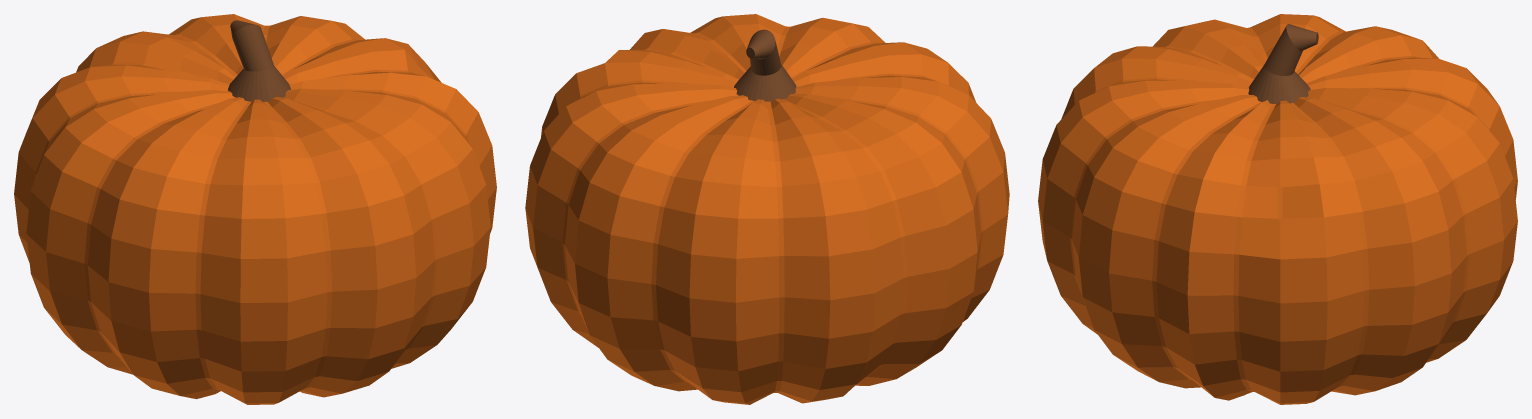
The model's file is pumpkin.glb.
3 views of the same model, side by side, from view 1: azimuth 30°, elevation 25°; view 2: azimuth 150°, elevation 25°; view 3: azimuth 270°, elevation 25° (orthographic).
Parts seen in each view (by area): view 1: Pumpkin_0, Pumpkin_1; view 2: Pumpkin_0, Pumpkin_1; view 3: Pumpkin_0, Pumpkin_1.
Part boxes in pixels (bbox=[...]): Pumpkin_0: bbox=[14, 14, 496, 404]; Pumpkin_1: bbox=[228, 20, 290, 101]; Pumpkin_0: bbox=[525, 14, 1009, 404]; Pumpkin_1: bbox=[734, 29, 796, 101]; Pumpkin_0: bbox=[1038, 14, 1517, 404]; Pumpkin_1: bbox=[1248, 24, 1318, 103].
Bounding box in the file's own units: 1 × 0.7682 × 0.9904.
